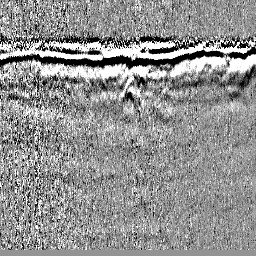cavity: (120, 75, 140, 100)
